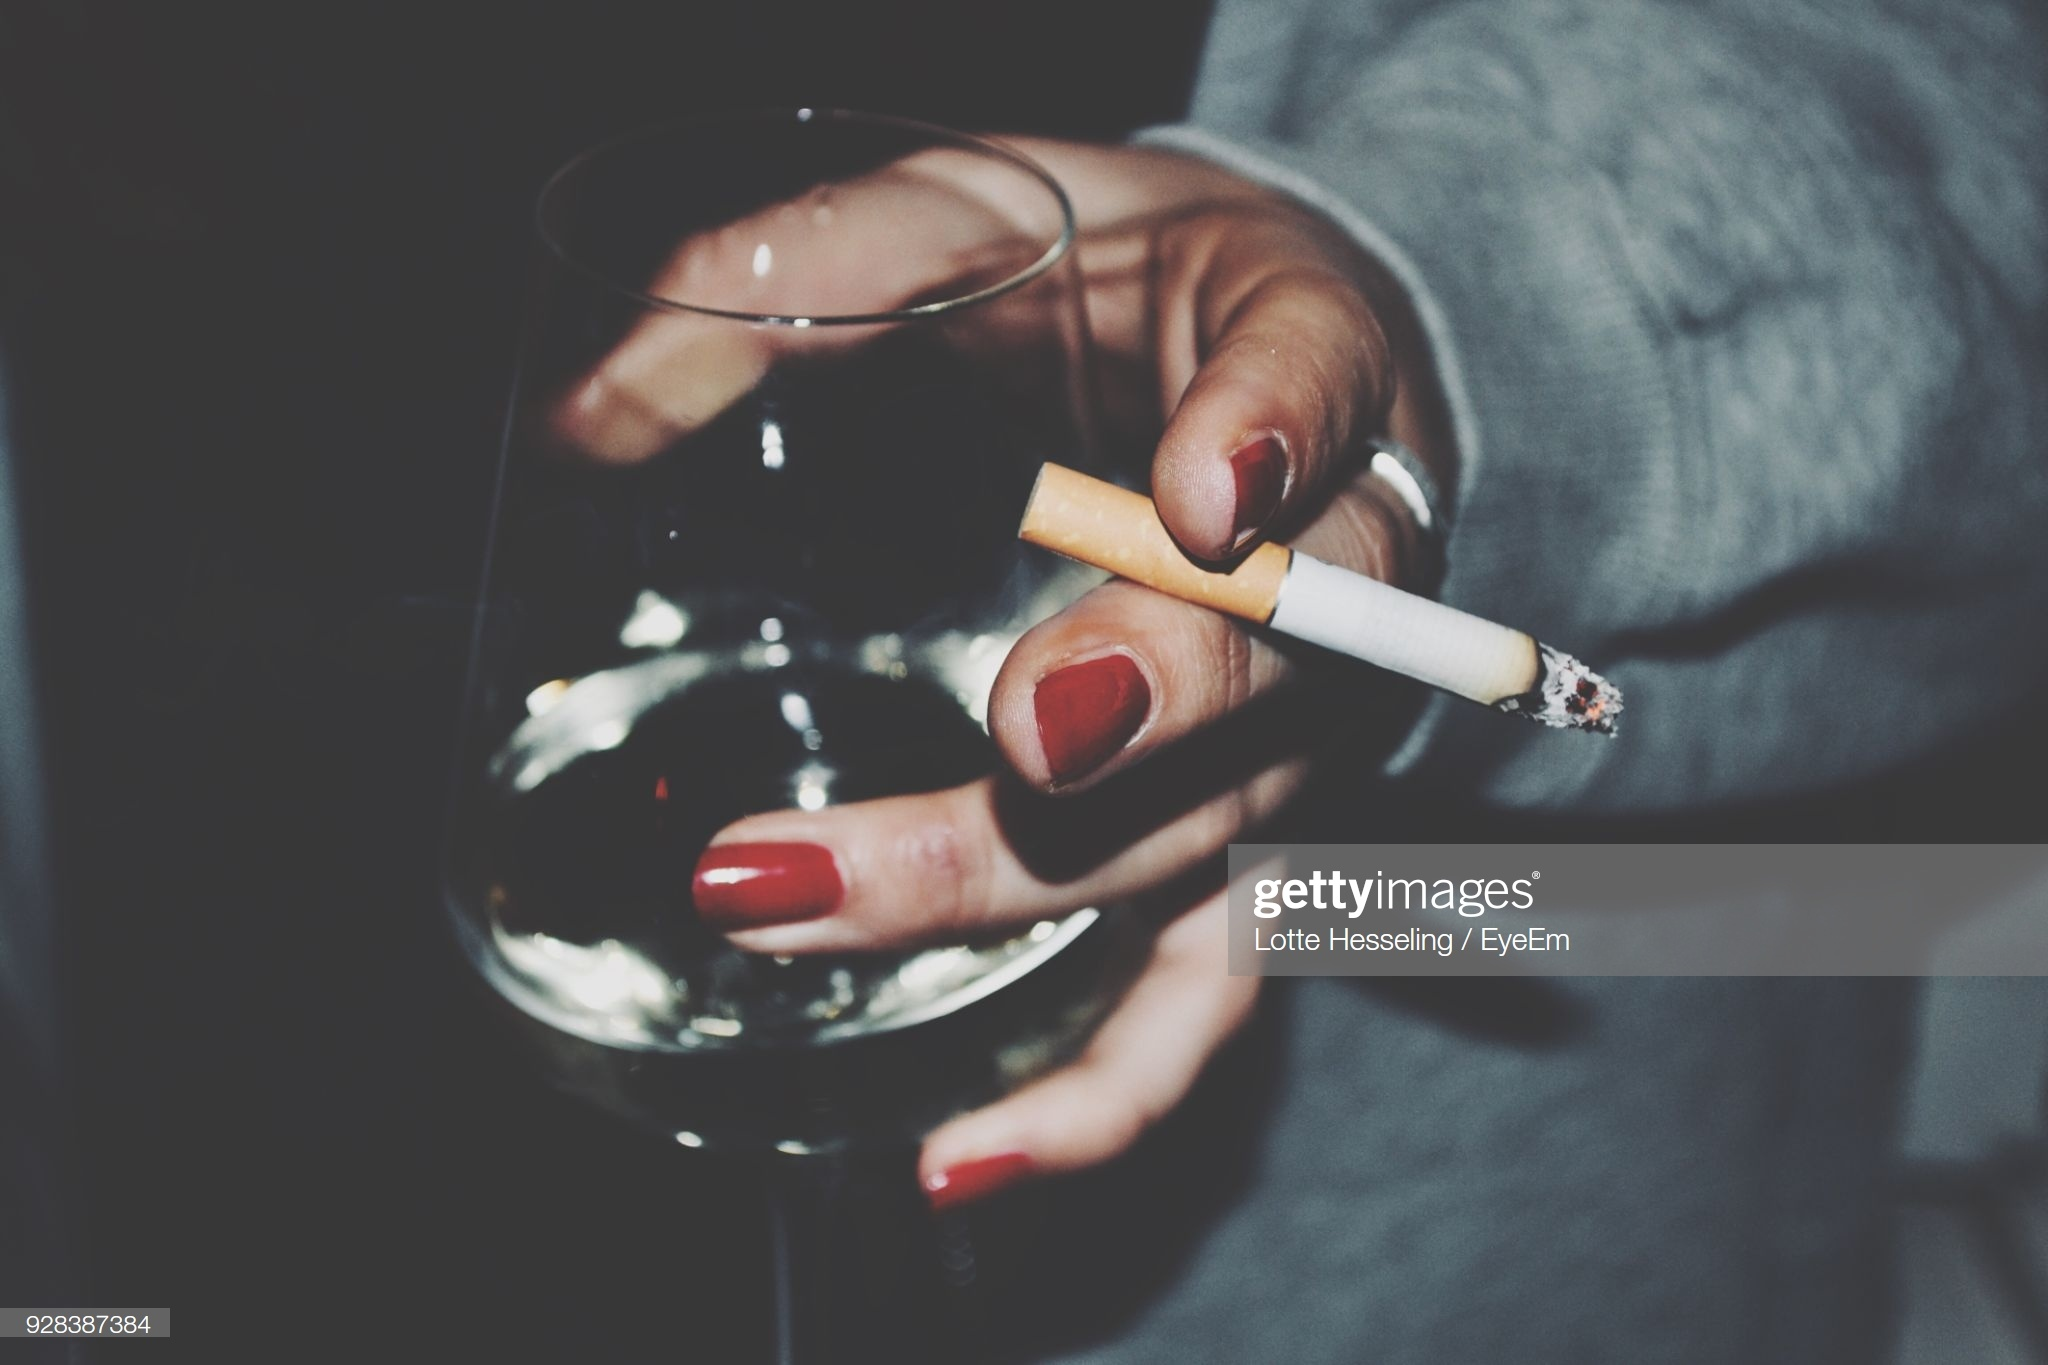sigaretta: (1032, 475, 1609, 724)
